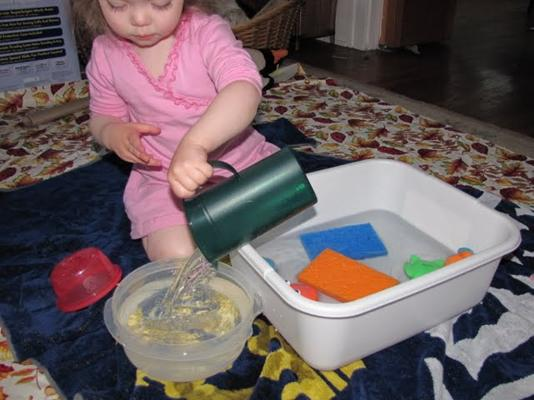person: (73, 3, 280, 262)
